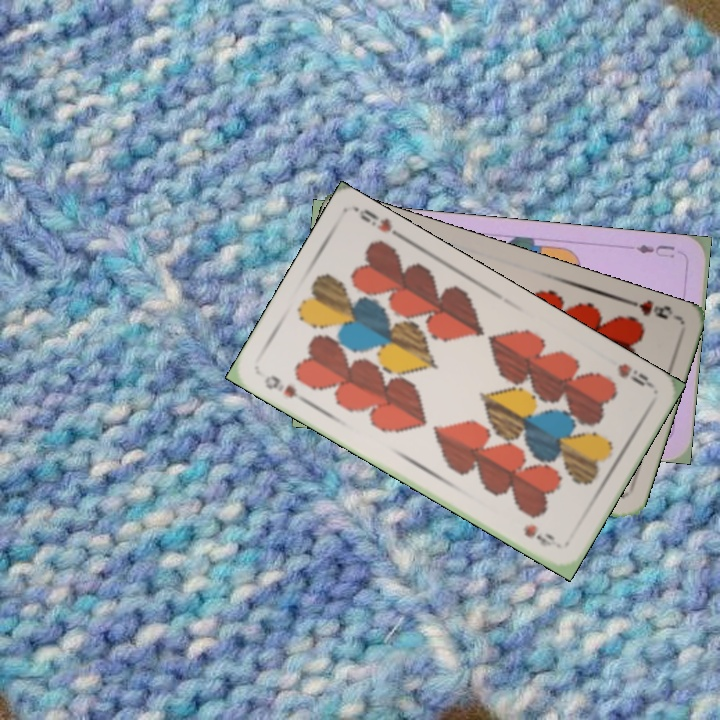EU: (632, 240, 677, 260)
H9: (260, 371, 310, 406), (621, 295, 678, 322), (613, 359, 655, 390)
